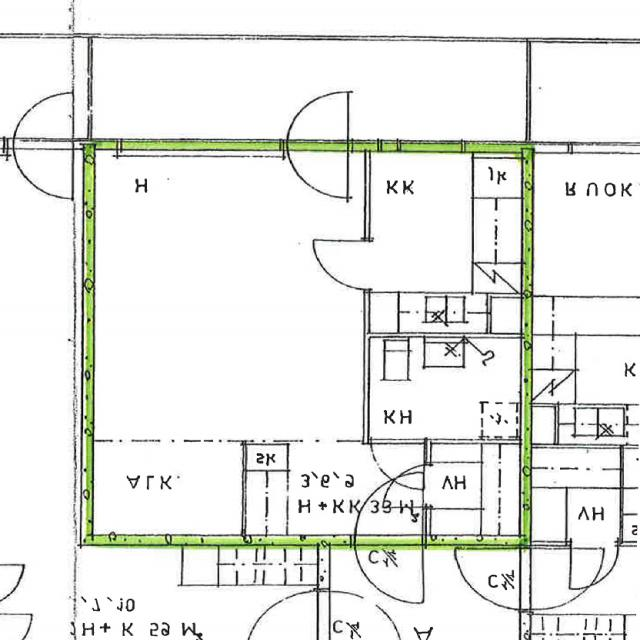door: (355, 475, 423, 545), (355, 535, 423, 605), (288, 142, 349, 206), (288, 88, 349, 152), (309, 239, 371, 289), (372, 439, 426, 491), (377, 464, 431, 507)
